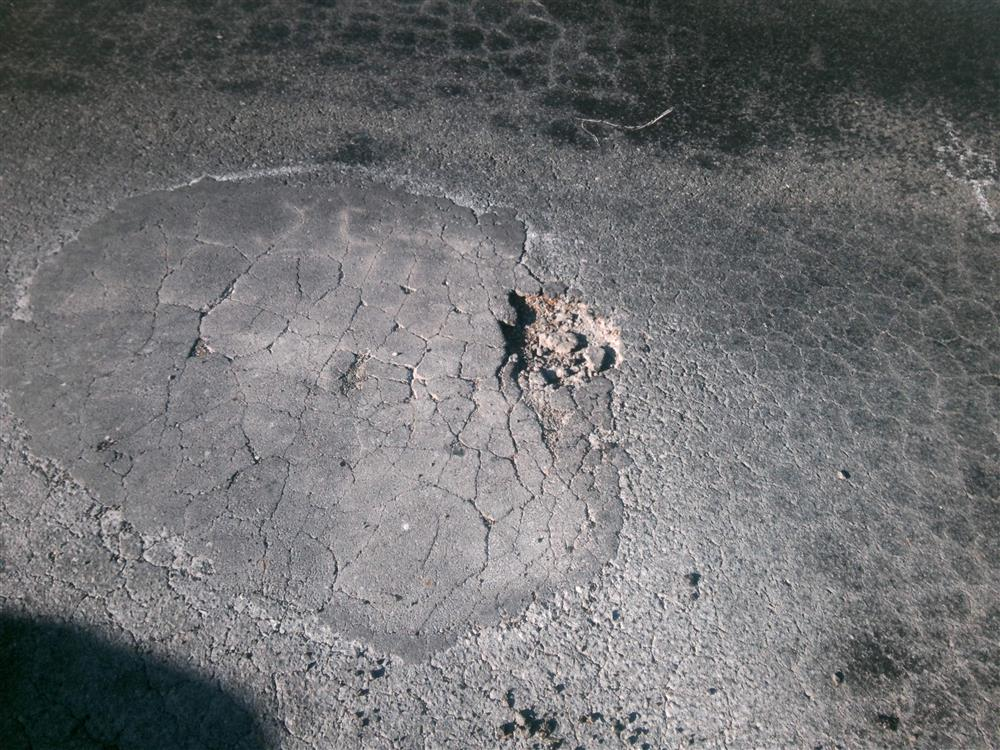pothole: (488, 276, 629, 393)
